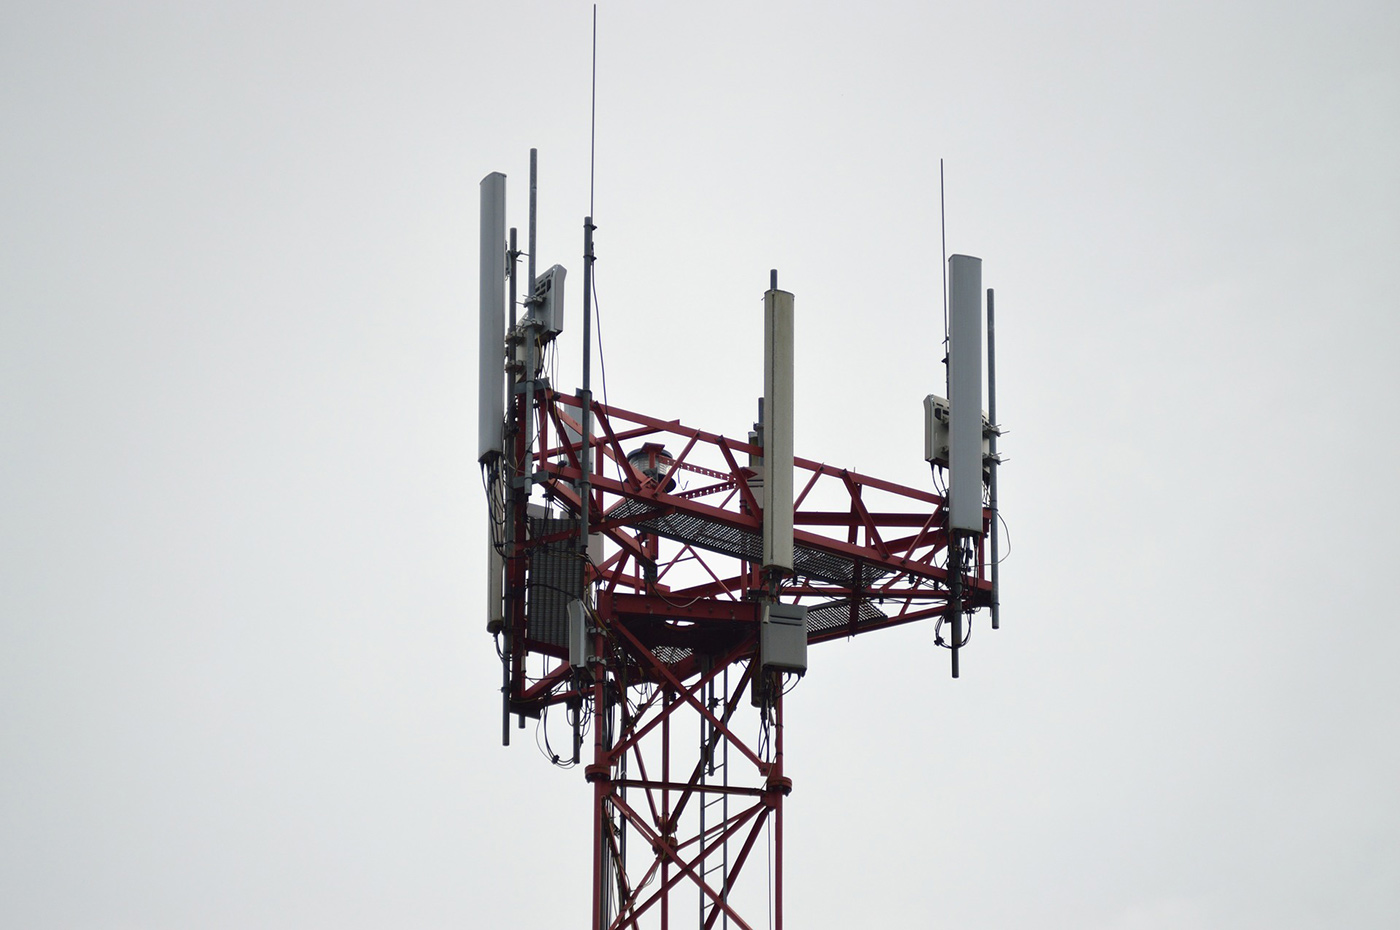a: (934, 232, 1008, 550), (759, 266, 805, 576), (472, 164, 512, 471)
